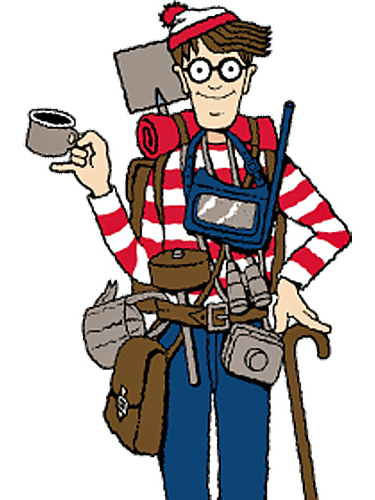waldo: (161, 1, 261, 131)
